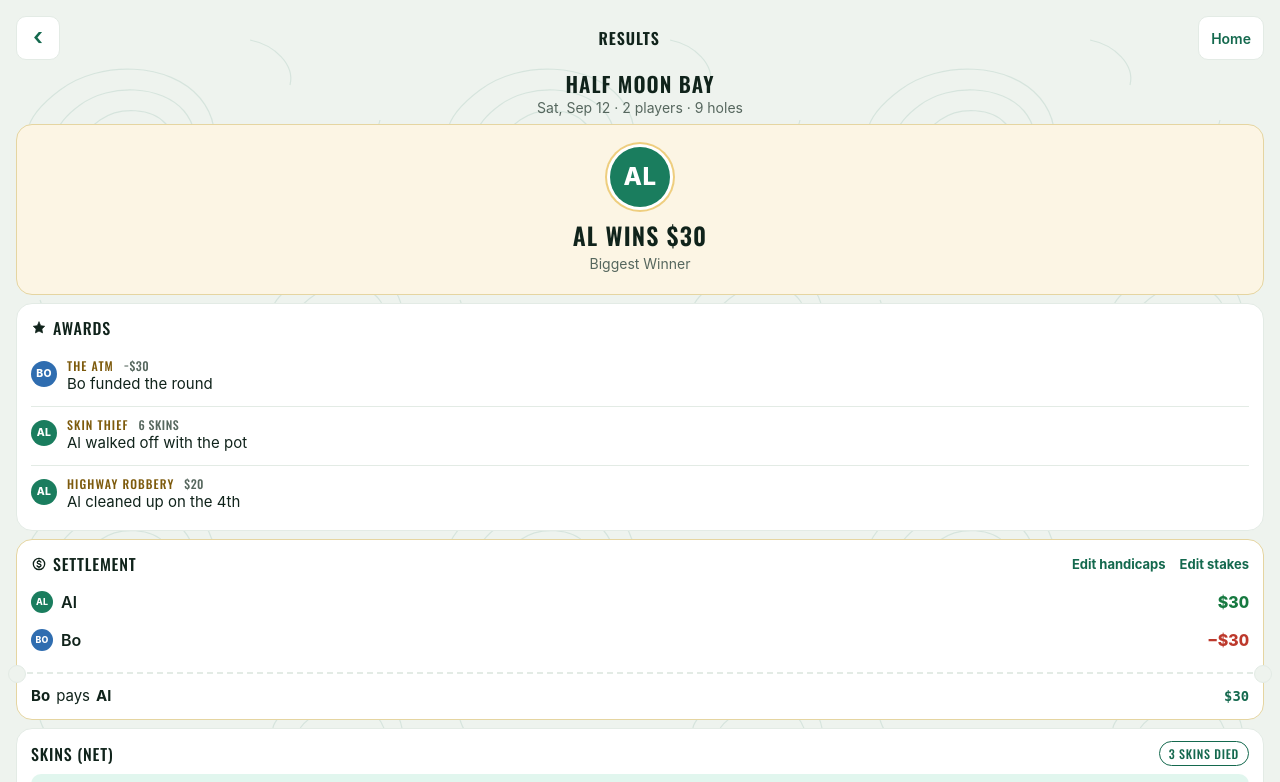
Test: editing the numbers that decide the money › sits with Edit stakes, where the money is
The width and height of the screenshot is (1280, 782).
Expected: the button "Edit stakes" is shown, [1174,550,1255,578]
Click the button "Edit handicaps": click(1119, 564) [1066,550,1172,578]
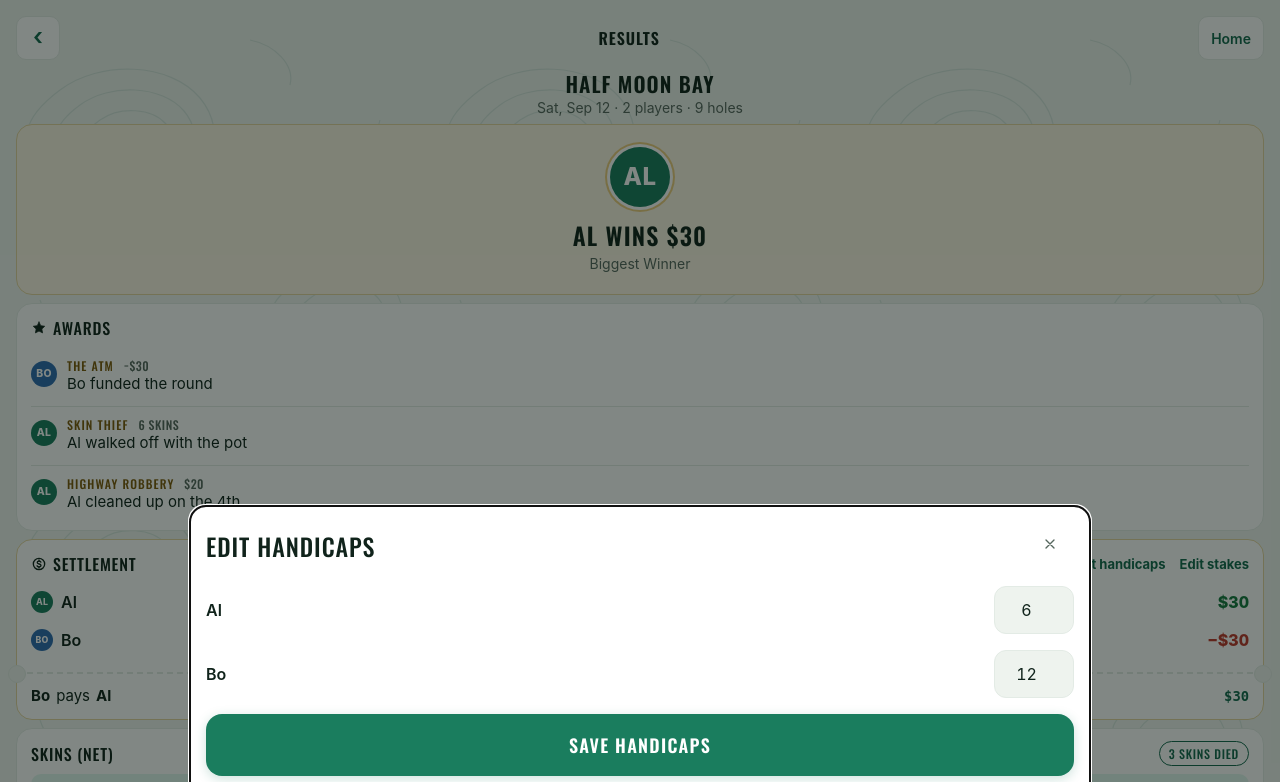
Result: the button "Save handicaps" is shown at [206,714,1074,776]
